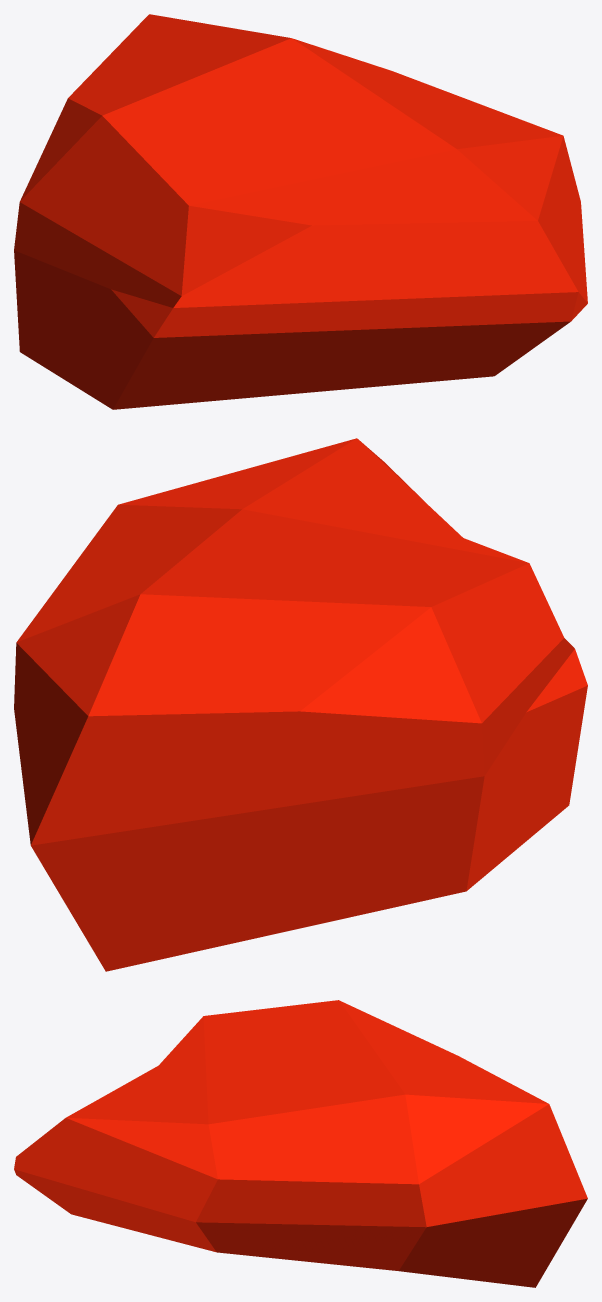
File: Nugget2_Red.fbx
The picture shows the model from 3 angles, top to bottom: view 1: azimuth 30°, elevation 25°; view 2: azimuth 150°, elevation 25°; view 3: azimuth 270°, elevation 25°; orthographic projection. The views are drawn at different scales.
Visible parts, largest first — view 1: Nugget2_Red; view 2: Nugget2_Red; view 3: Nugget2_Red.
Boxes of the visible parts, bbox=[...] form: Nugget2_Red: bbox=[14, 14, 587, 409]; Nugget2_Red: bbox=[14, 438, 587, 971]; Nugget2_Red: bbox=[14, 1000, 587, 1287].
Bounding box in the file's own units: 25.59 × 16.01 × 37.51.
